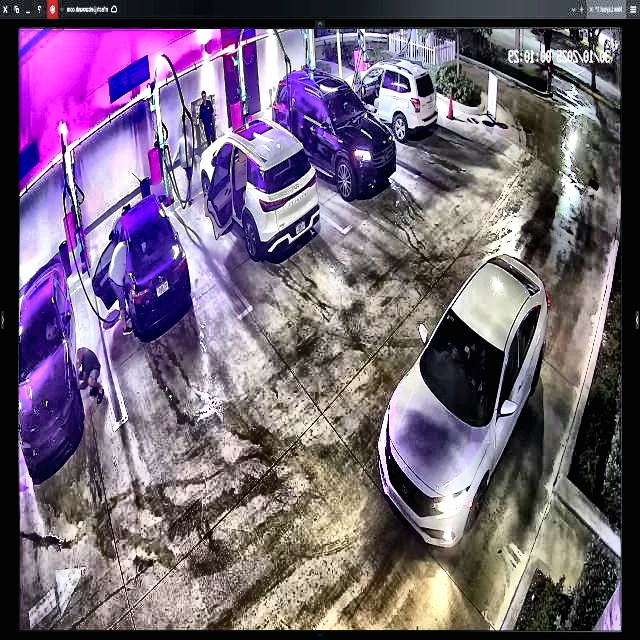Car: (378, 252, 551, 548), (200, 119, 319, 254), (273, 69, 395, 187), (92, 198, 191, 337)
